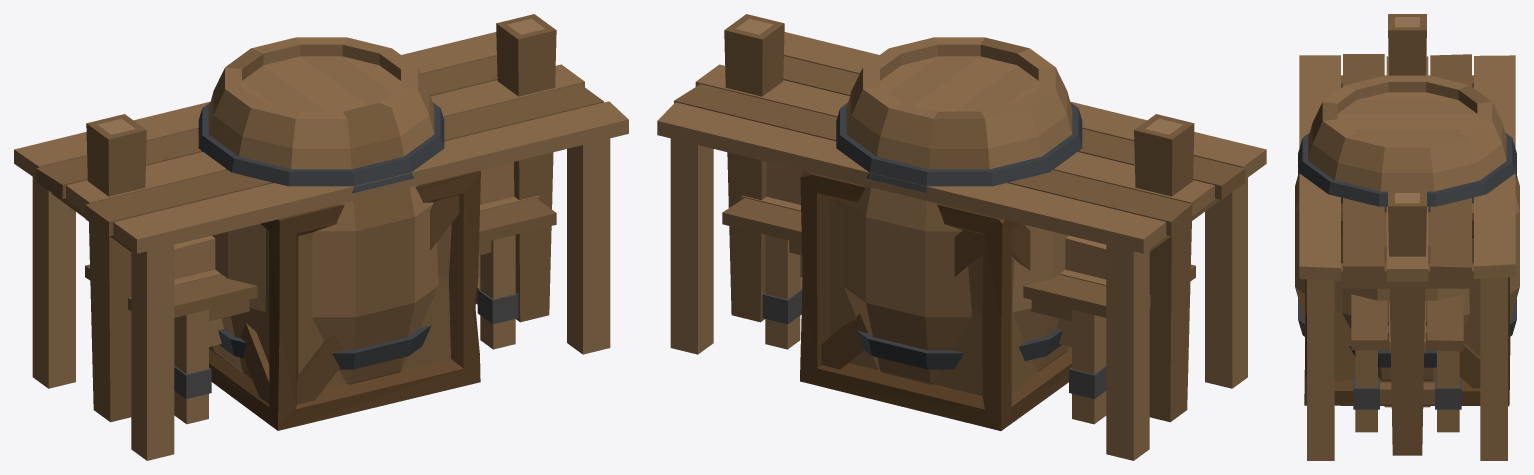
The model's file is Asset_Fort.fbx.
3 renders of one model, left to right at view 1: azimuth 30°, elevation 25°; view 2: azimuth 150°, elevation 25°; view 3: azimuth 270°, elevation 25°, orthographic. The views are drawn at different scales.
Parts seen in each view (by area): view 1: Furniture_01, Barrel_01, Box_01, Fence_01, Furniture_02, Fence_02; view 2: Furniture_01, Barrel_01, Box_01, Fence_01, Furniture_02, Fence_02; view 3: Furniture_01, Barrel_01, Fence_01, Furniture_02, Box_01.
Boxes of the visible parts, <box> form: Furniture_01: <box>14,32,628,460</box>; Barrel_01: <box>198,37,444,384</box>; Box_01: <box>209,170,480,430</box>; Fence_01: <box>86,14,556,422</box>; Furniture_02: <box>85,195,556,424</box>; Fence_02: <box>174,172,514,346</box>; Furniture_01: <box>657,32,1266,460</box>; Barrel_01: <box>836,37,1082,384</box>; Box_01: <box>800,170,1071,430</box>; Fence_01: <box>724,14,1194,422</box>; Furniture_02: <box>722,195,1195,424</box>; Fence_02: <box>766,175,1106,347</box>; Furniture_01: <box>1299,54,1515,460</box>; Barrel_01: <box>1295,75,1519,381</box>; Fence_01: <box>1388,14,1426,455</box>; Furniture_02: <box>1351,294,1463,432</box>; Box_01: <box>1304,213,1510,406</box>.
Size of the model in its own units: 1.83 by 0.8105 by 1.06.
23 materials, 22 textured.
